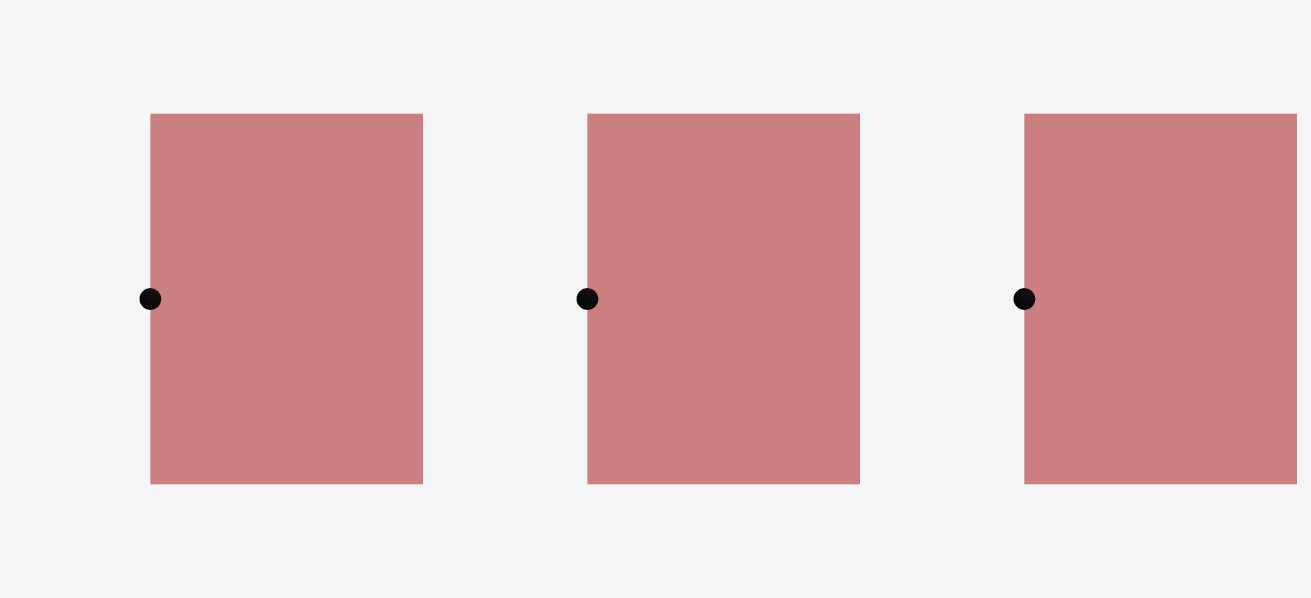
The model's file is 3foldnbhd.glb.
3 views of the same model, side by side, from view 1: azimuth 30°, elevation 25°; view 2: azimuth 150°, elevation 25°; view 3: azimuth 270°, elevation 25° (orthographic).
Visible parts, largest first — view 1: Circle; view 2: Circle; view 3: Circle.
Boxes of the visible parts, left/top/right/bottom form: Circle: left=150, top=113, right=422, bottom=484; Circle: left=587, top=113, right=859, bottom=484; Circle: left=1024, top=113, right=1296, bottom=484.
Size of the model in its own units: 1.73 by 1.5 by 1.5.
